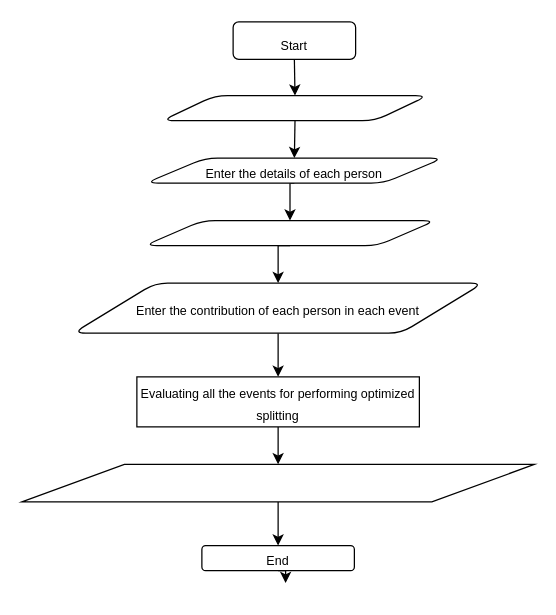
Image size: 556x615. Some labels were removed from this diagram. Here are the shapes that lost their labels. From the top down, the centre of each, then its label:
(294,107): Enter the number of persons
(289,232): Enter the number of events
(277,482): Automatic generation of the text file having final splitting ouput
